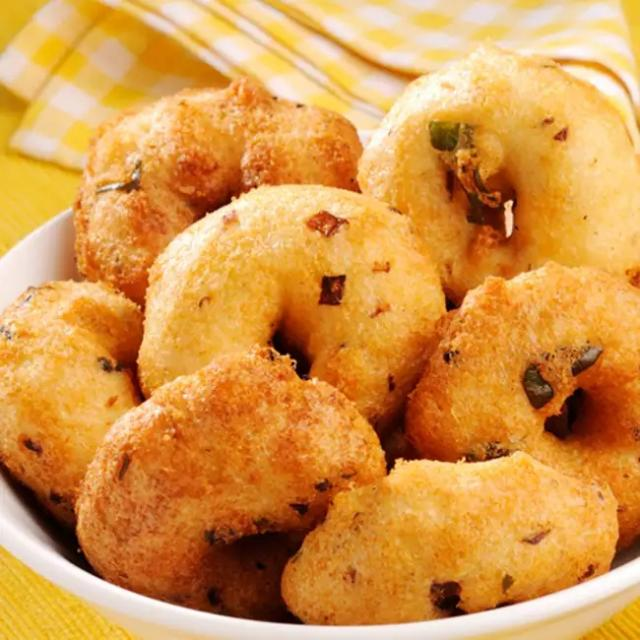Vada: (0, 36, 640, 623), (134, 182, 451, 467), (355, 45, 640, 311), (73, 82, 363, 305), (0, 281, 144, 537)
